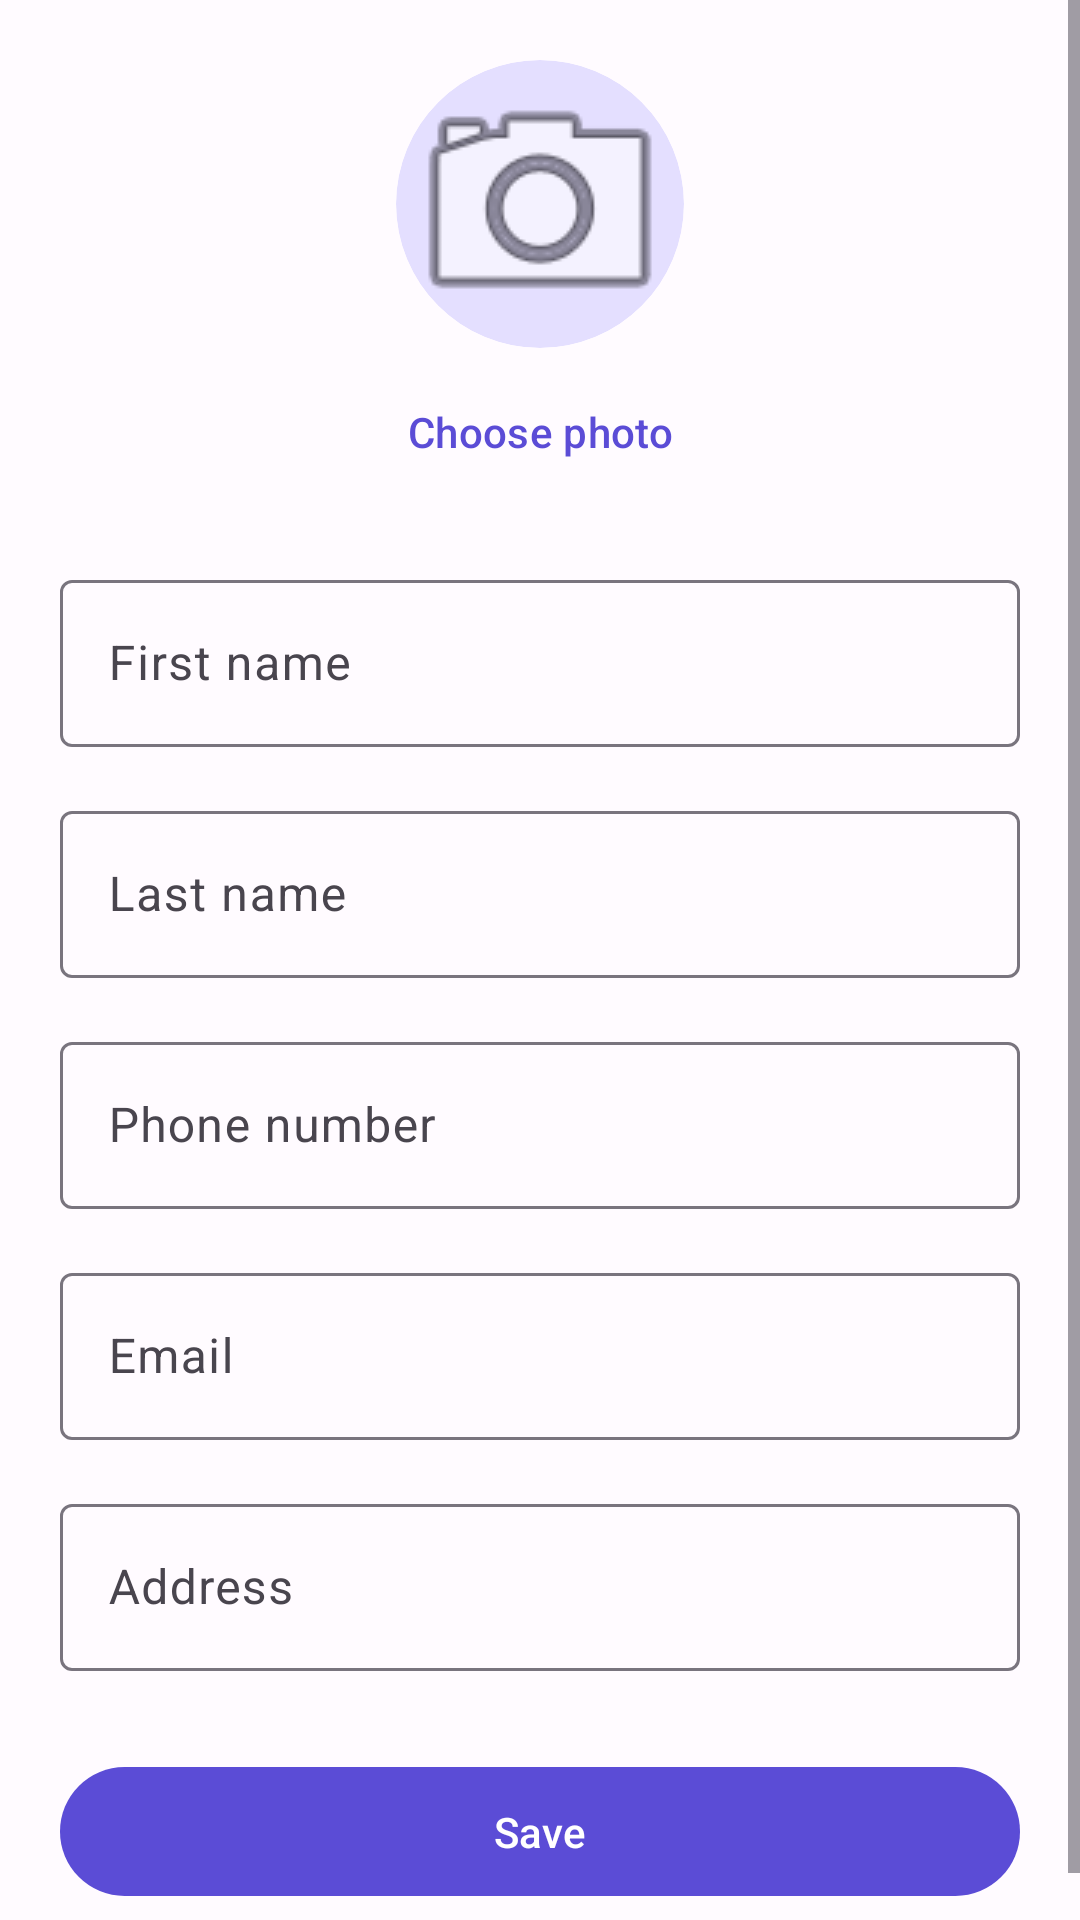

Point at icon controls on the screen. Image size 1080 x 1920, points as [x,y].
Contact photo: [540,204]
